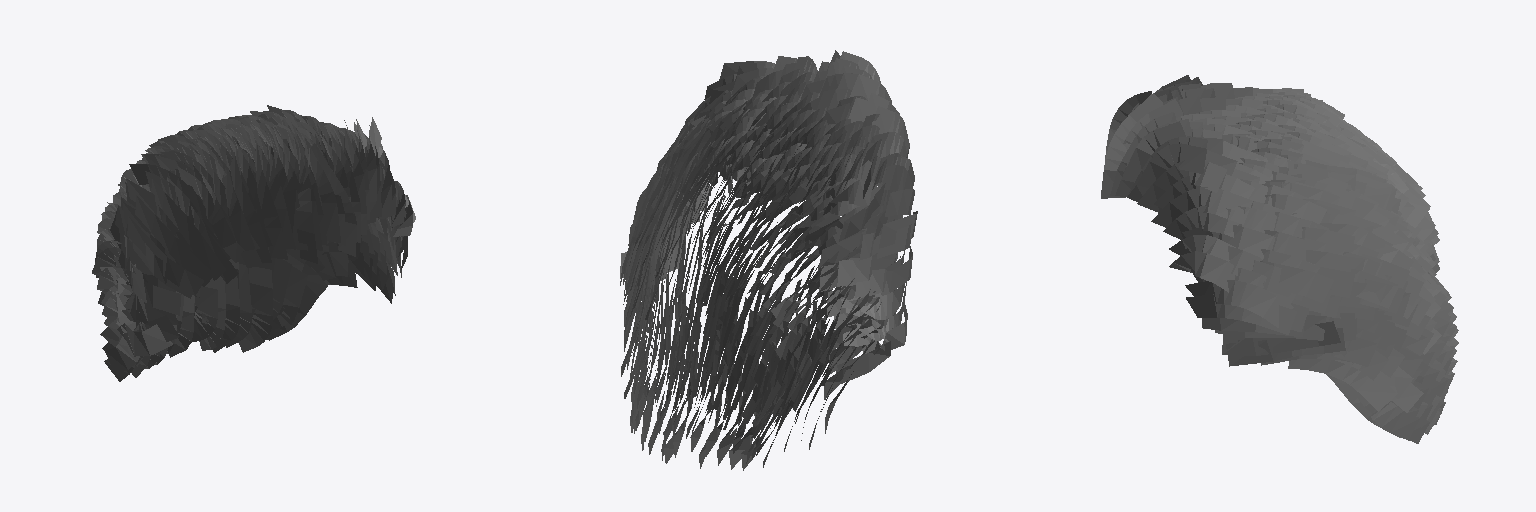
File: Hair_MK_2.obj
3 views of the same model, side by side, from view 1: azimuth 30°, elevation 25°; view 2: azimuth 150°, elevation 25°; view 3: azimuth 270°, elevation 25° (orthographic).
Parts seen in each view (by area): view 1: MM_hair_convert1; view 2: MM_hair_convert1; view 3: MM_hair_convert1.
Part boxes in pixels (x1,y1,x2,y2): MM_hair_convert1: (92,105,415,381); MM_hair_convert1: (620,50,917,470); MM_hair_convert1: (1101,75,1458,443).
Size of the model in its own units: 19.93 by 23.72 by 23.95.